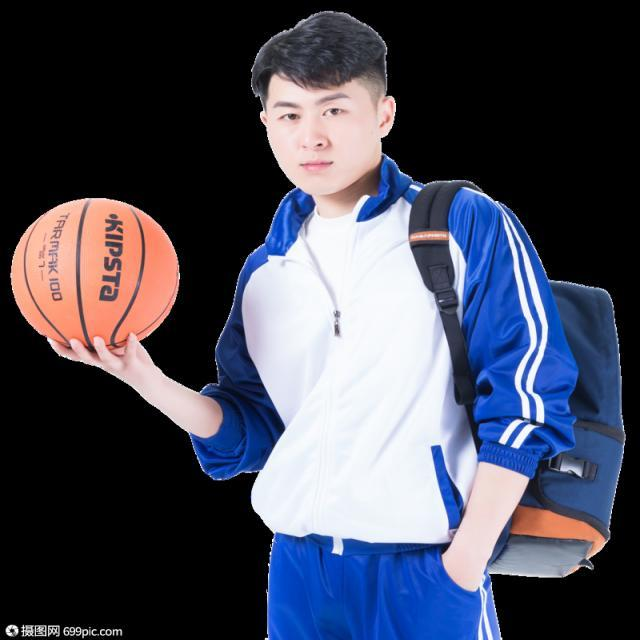rim: (11, 202, 180, 355)
